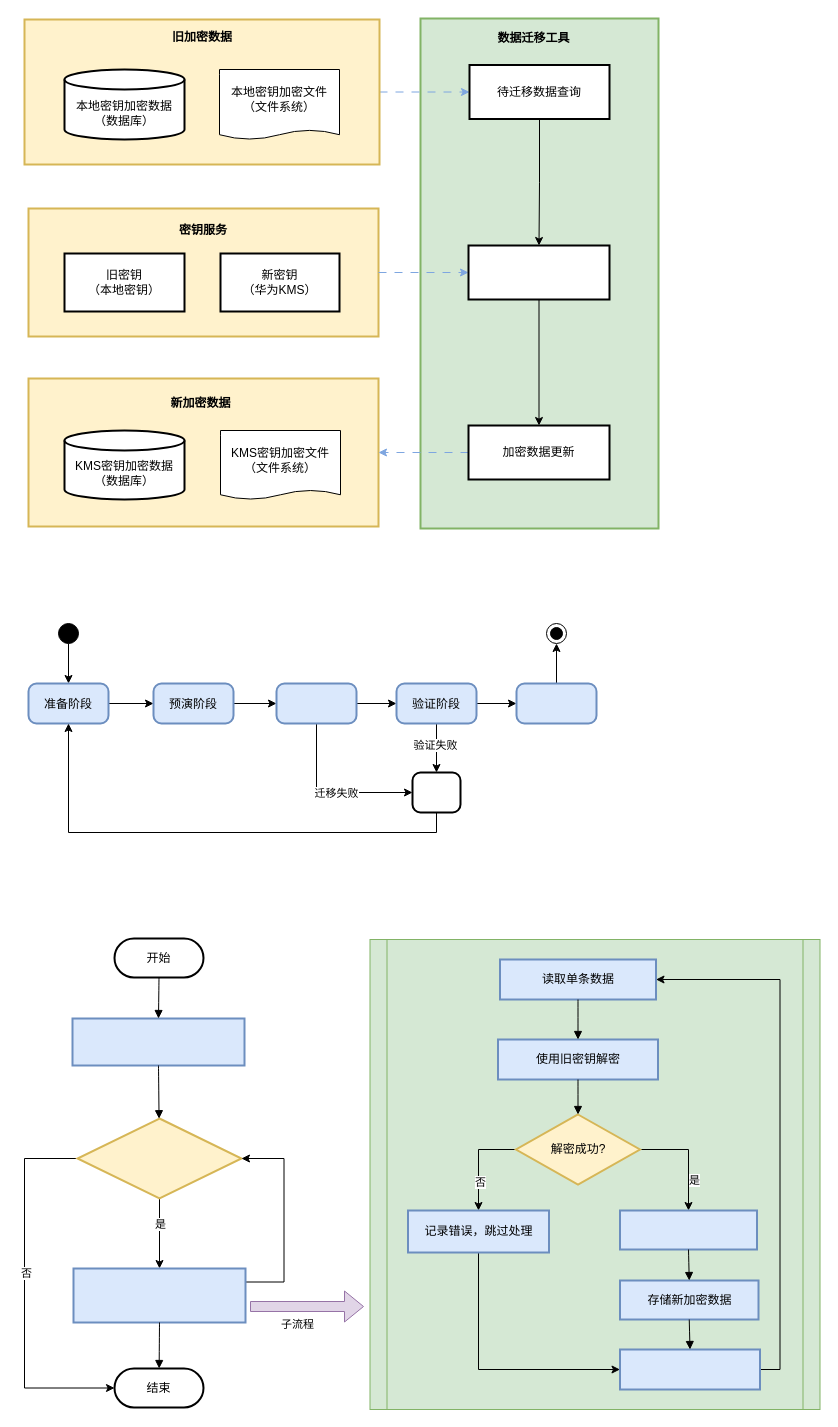
The diagram is 838 pixels wide and 1427 high, and some of its shapes have lost their labels. Here are the shapes that lost their labels. From the top down, the centre of each, then its label:
At point (538, 272): "加解密迁移转换".
At point (316, 703): "执行阶段".
At point (556, 703): "收尾阶段".
At point (436, 792): "回滚".
At point (158, 1041): "获取旧加密数据 （每批次1000条）".
At point (159, 1158): "是否还有 未处理数据?".
At point (688, 1229): "调用KMS加密".
At point (159, 1295): "处理本批次数据".
At point (689, 1369): "更新进度，处理下一条".
